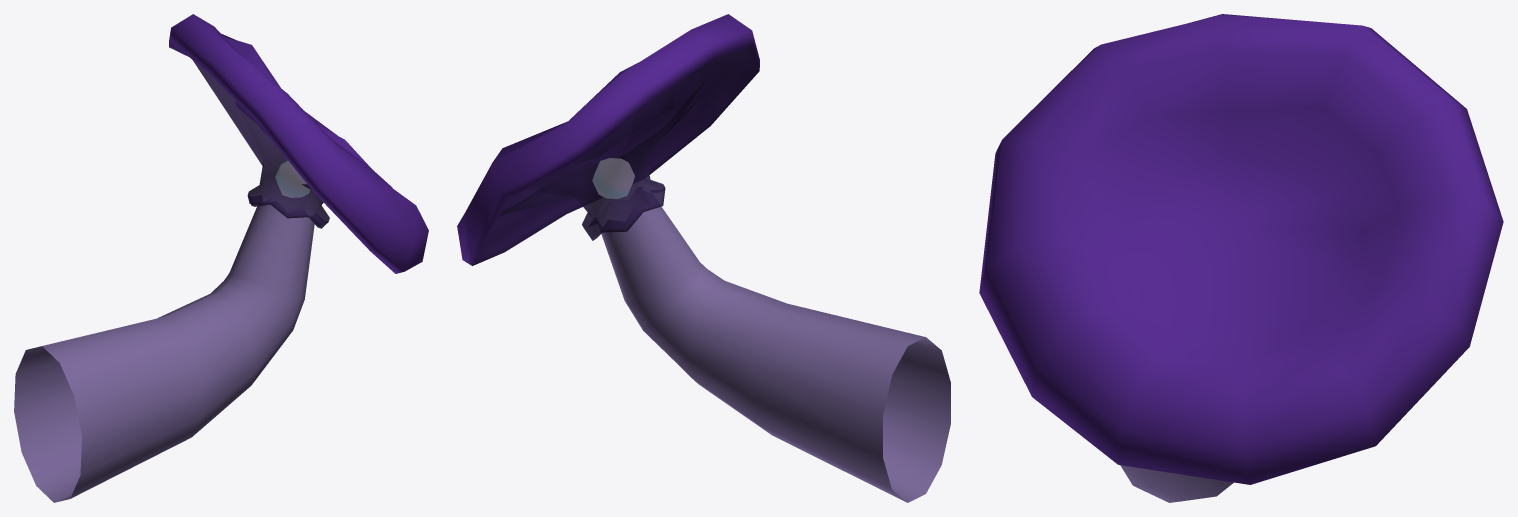
Rendered from Mushroom_Wall_02_merged.fbx.
3 views of the same model, side by side, from view 1: azimuth 30°, elevation 25°; view 2: azimuth 150°, elevation 25°; view 3: azimuth 270°, elevation 25° (orthographic). The views are drawn at different scales.
Visible parts, largest first — view 1: Mushroom_Wall_02_merged; view 2: Mushroom_Wall_02_merged; view 3: Mushroom_Wall_02_merged.
Boxes of the visible parts, <box> form: Mushroom_Wall_02_merged: <box>14,14,428,502</box>; Mushroom_Wall_02_merged: <box>457,14,950,502</box>; Mushroom_Wall_02_merged: <box>979,14,1503,502</box>.
Size of the model in its own units: 202 by 165 by 203.
